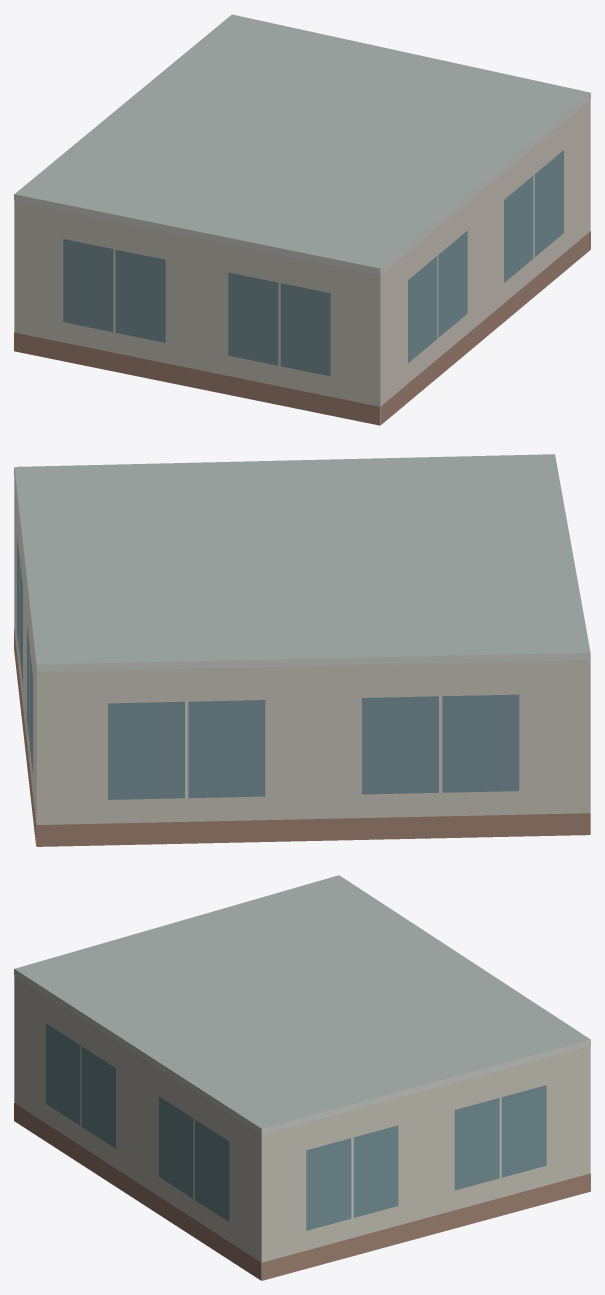
Rendered from survey-upis-32822805.glb.
The picture shows the model from 3 angles, top to bottom: view 1: azimuth 30°, elevation 25°; view 2: azimuth 150°, elevation 25°; view 3: azimuth 270°, elevation 25°; orthographic projection. The views are drawn at different scales.
Parts seen in each view (by area): view 1: survey-upis-32822805.tmp; view 2: survey-upis-32822805.tmp; view 3: survey-upis-32822805.tmp.
Boxes of the visible parts, x1,y1,x2,y2 form: survey-upis-32822805.tmp: (14,14,590,425); survey-upis-32822805.tmp: (14,454,590,846); survey-upis-32822805.tmp: (14,875,590,1280).
Bounding box in the file's own units: 10.92 × 3.05 × 10.49.
